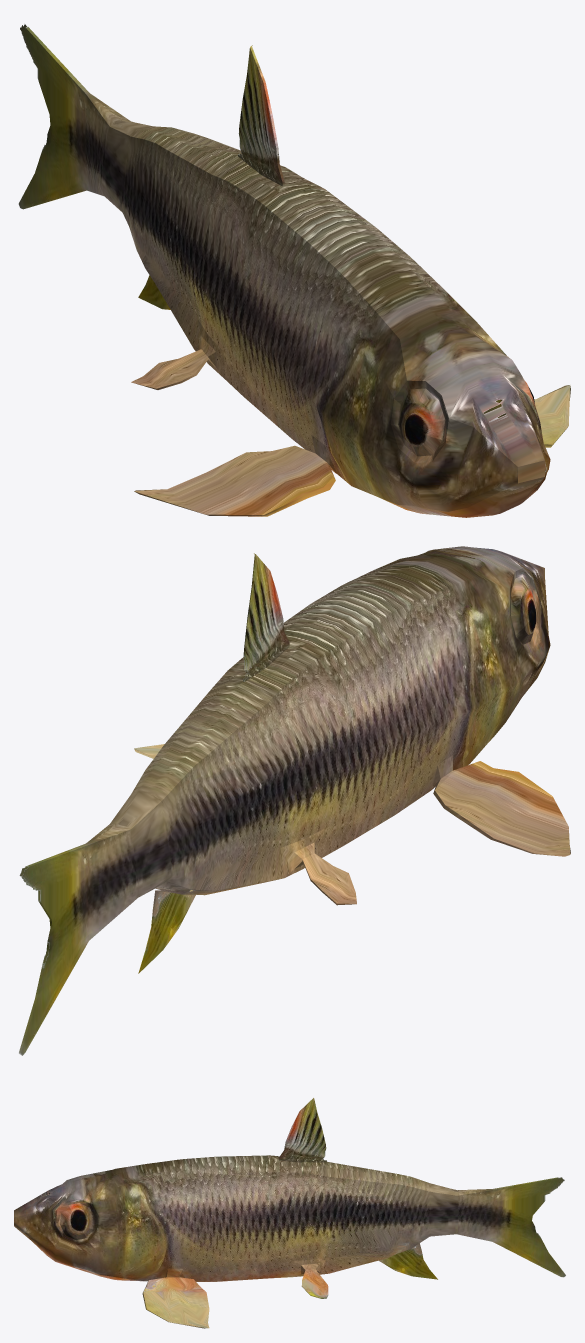
Rendered from kawamutu.fbx.
3 renders of one model, top to bottom at view 1: azimuth 30°, elevation 25°; view 2: azimuth 150°, elevation 25°; view 3: azimuth 270°, elevation 25°, orthographic. The views are drawn at different scales.
Visible parts, largest first — view 1: kawamutu_kurumeusu_mimurapCube1; view 2: kawamutu_kurumeusu_mimurapCube1; view 3: kawamutu_kurumeusu_mimurapCube1.
Boxes of the visible parts, x1=… form: kawamutu_kurumeusu_mimurapCube1: x1=18, y1=24, x2=570, y2=517; kawamutu_kurumeusu_mimurapCube1: x1=19, y1=546, x2=570, y2=1055; kawamutu_kurumeusu_mimurapCube1: x1=14, y1=1098, x2=565, y2=1328.
Size of the model in its own units: 9.11 by 6.8 by 18.66.
